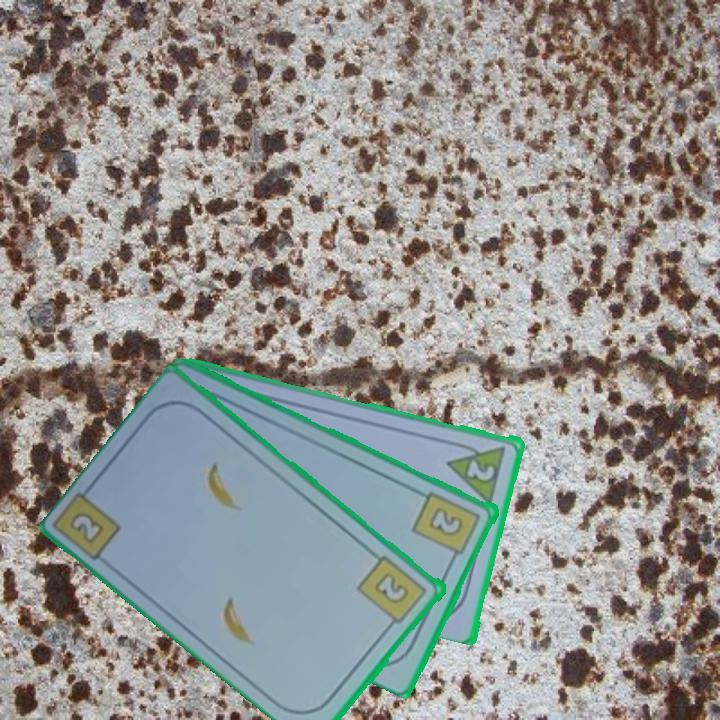2b: (354, 552, 431, 633), (409, 487, 484, 565), (66, 508, 108, 547)
2p: (444, 437, 509, 505)
